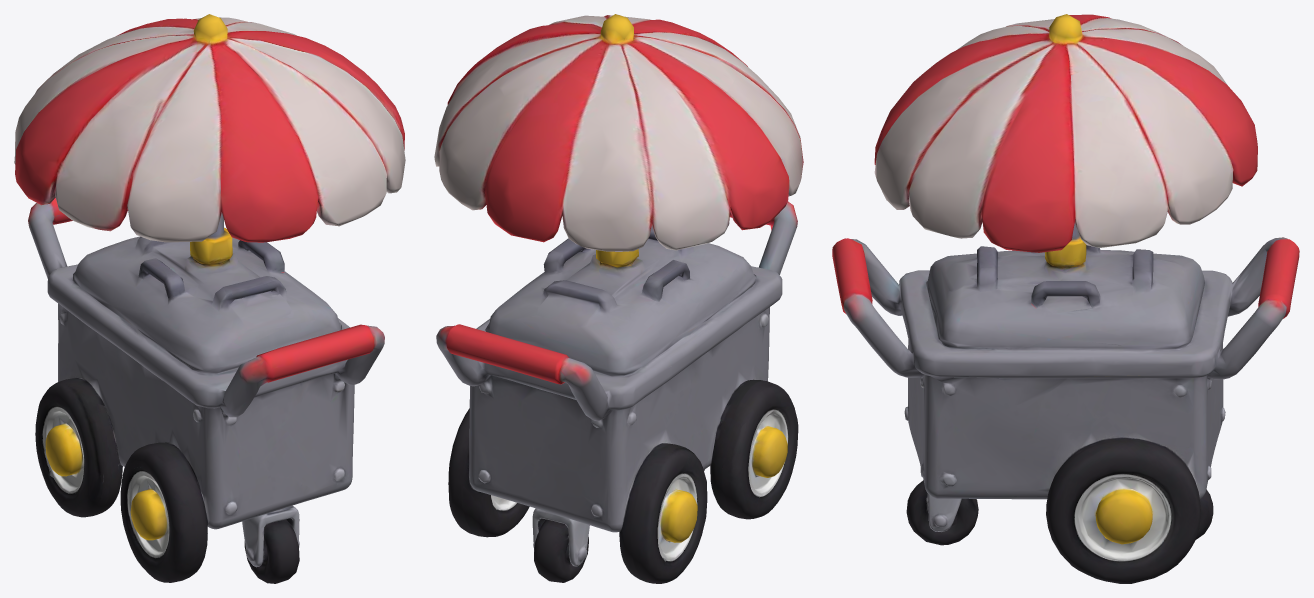
File: hot_dog_cart.glb
3 renders of one model, left to right at view 1: azimuth 30°, elevation 25°; view 2: azimuth 150°, elevation 25°; view 3: azimuth 270°, elevation 25°, orthographic.
Parts seen in each view (by area): view 1: tripo_node_e0b05abe-2ec0-4a1a-b69e-9da438155cf3; view 2: tripo_node_e0b05abe-2ec0-4a1a-b69e-9da438155cf3; view 3: tripo_node_e0b05abe-2ec0-4a1a-b69e-9da438155cf3.
Part boxes in pixels (<box>): tripo_node_e0b05abe-2ec0-4a1a-b69e-9da438155cf3: <box>14,14,405,583</box>; tripo_node_e0b05abe-2ec0-4a1a-b69e-9da438155cf3: <box>434,14,803,583</box>; tripo_node_e0b05abe-2ec0-4a1a-b69e-9da438155cf3: <box>832,14,1299,583</box>.
Bounding box in the file's own units: 0.6652 × 0.9791 × 0.7885.
Materials: 1 (1 with a texture image).
